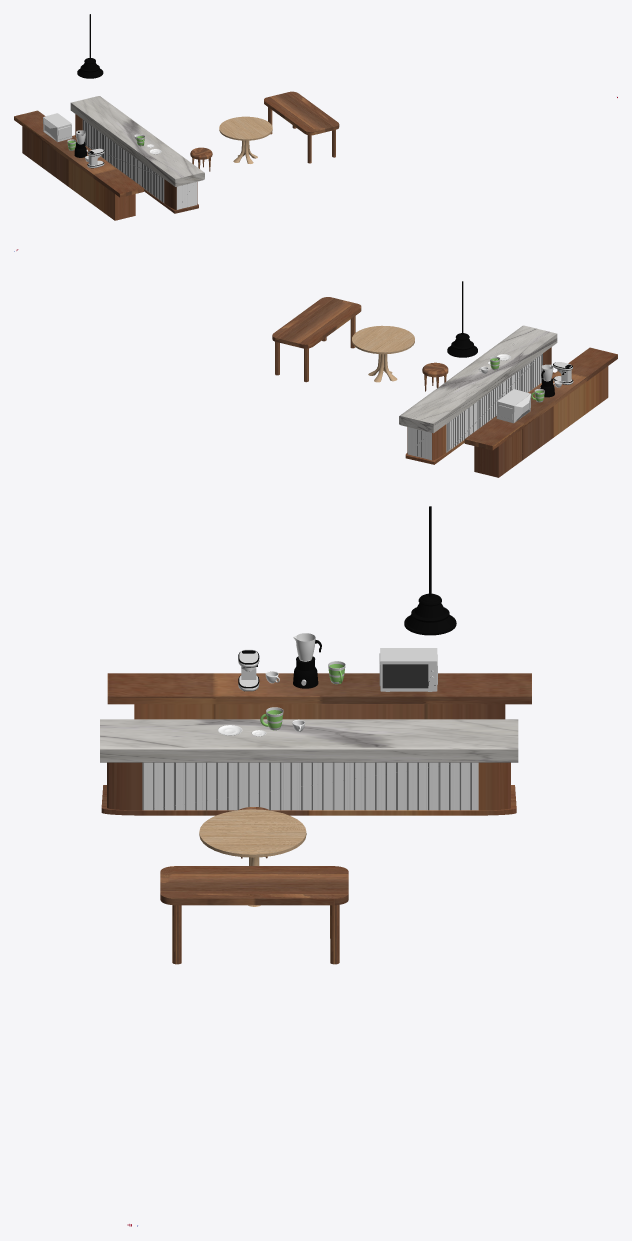
The model's file is Countertop.fbx.
3 views of the same model, one above another, from view 1: azimuth 30°, elevation 25°; view 2: azimuth 150°, elevation 25°; view 3: azimuth 270°, elevation 25° (orthographic). The views are drawn at different scales.
Visible parts, largest first — view 1: Cube, Cube.008, Cube.017, Cylinder.044, Cube.006, Cylinder.033, Cube.001; view 2: Cube, Cube.008, Cube.017, Cylinder.044, Cube.006, Cylinder.033, Cube.001, Cube.011; view 3: Cube, Cube.008, Cube.017, Cylinder.044, Cube.006, Cylinder.033.
Boxes of the visible parts, x1,y1,x2,y2 form: Cube: (70, 96, 204, 213); Cube.008: (14, 110, 143, 220); Cube.017: (264, 91, 339, 163); Cylinder.044: (219, 116, 272, 163); Cube.006: (43, 113, 72, 141); Cylinder.033: (77, 14, 103, 78); Cube.001: (190, 147, 212, 171); Cube: (399, 325, 557, 464); Cube.008: (464, 347, 617, 477); Cube.017: (272, 297, 361, 382); Cylinder.044: (352, 325, 414, 382); Cube.006: (496, 389, 531, 423); Cylinder.033: (447, 281, 477, 357); Cube.001: (422, 362, 448, 391); Cube.011: (553, 362, 573, 384); Cube: (100, 719, 518, 815); Cube.008: (107, 673, 531, 719); Cube.017: (160, 866, 348, 964); Cylinder.044: (199, 809, 306, 906); Cube.006: (379, 648, 437, 691); Cylinder.033: (404, 506, 456, 635).
Size of what is drawn, in the model's own units: 9863 by 2627 by 3665.
24 materials, 4 textured.
